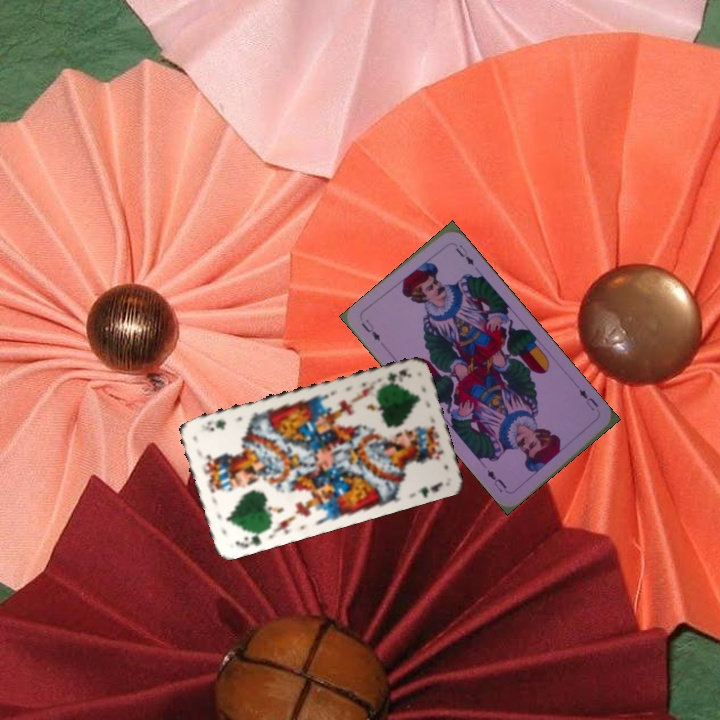EU: (575, 385, 601, 414), (357, 315, 383, 344)
GK: (231, 527, 265, 550), (383, 364, 414, 383)
